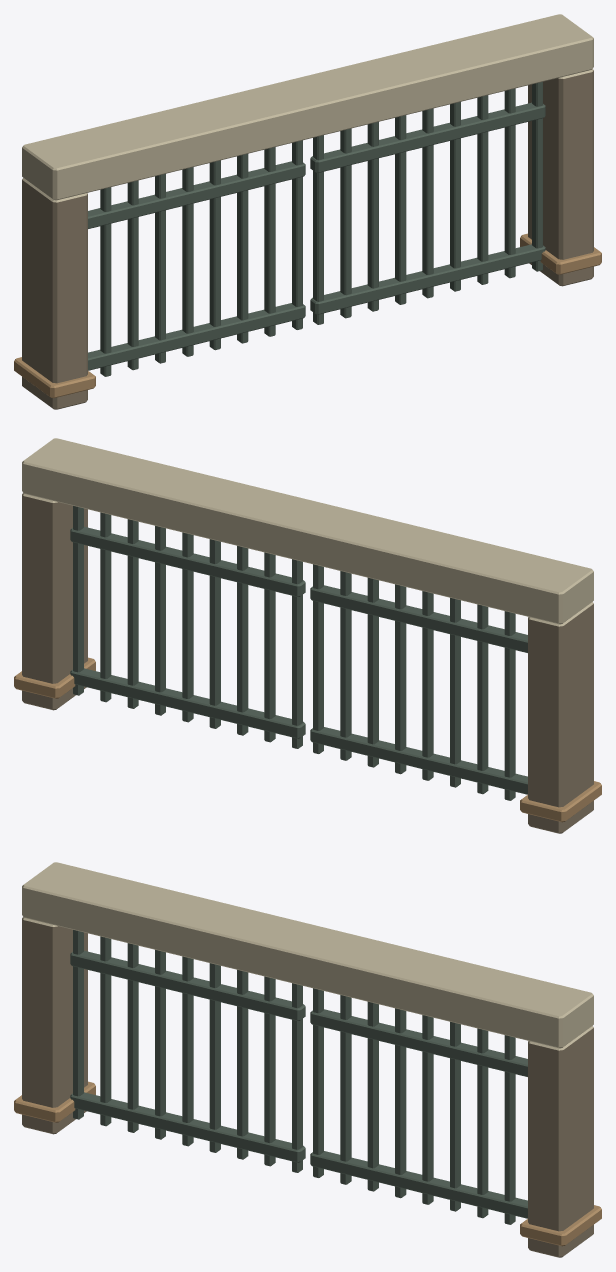
Rendered from gate-wide.glb.
3 renders of one model, top to bottom at view 1: azimuth 30°, elevation 25°; view 2: azimuth 150°, elevation 25°; view 3: azimuth 330°, elevation 25°, orthographic.
Parts seen in each view (by area): view 1: gate-wide__body, gate-wide__leaf-right, gate-wide__leaf-left; view 2: gate-wide__body, gate-wide__leaf-right, gate-wide__leaf-left; view 3: gate-wide__body, gate-wide__leaf-left, gate-wide__leaf-right.
Boxes of the visible parts, x1,y1,x2,y2 form: gate-wide__body: (14,14,601,409); gate-wide__leaf-right: (310,82,545,324); gate-wide__leaf-left: (88,140,305,376); gate-wide__body: (14,438,601,833); gate-wide__leaf-right: (70,506,305,748); gate-wide__leaf-left: (310,564,527,800); gate-wide__body: (14,862,601,1257); gate-wide__leaf-left: (70,930,305,1172); gate-wide__leaf-right: (310,988,527,1224).
Bounding box in the file's own units: 4.69 × 1.96 × 0.58.
